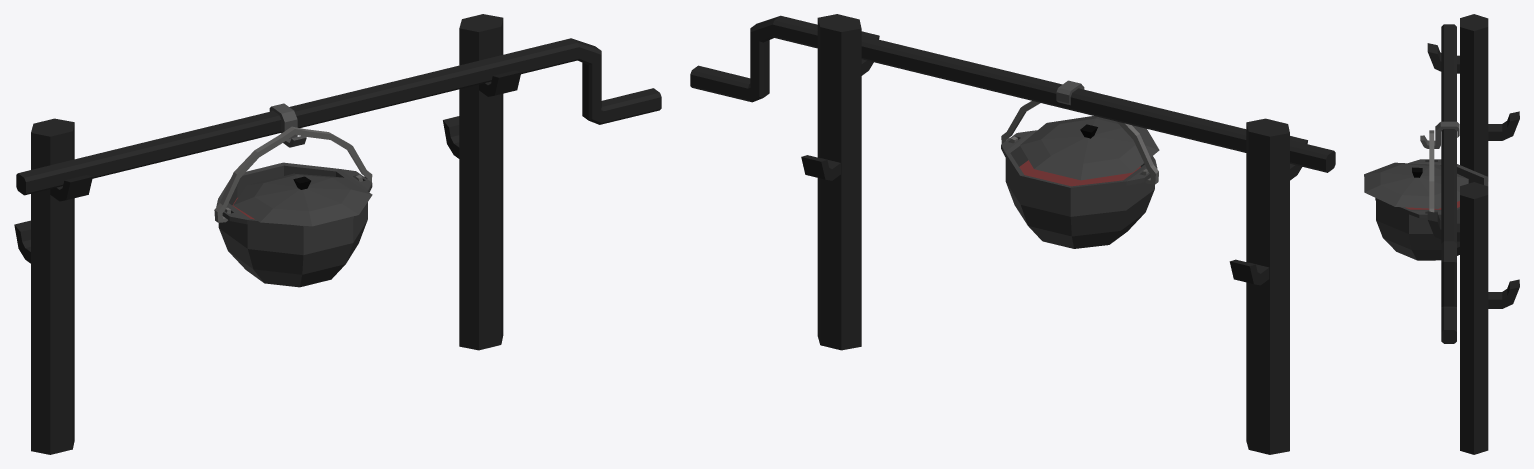
The model's file is Spit_with_cauldron.fbx.
The picture shows the model from 3 angles, left to right: view 1: azimuth 30°, elevation 25°; view 2: azimuth 150°, elevation 25°; view 3: azimuth 270°, elevation 25°; orthographic projection. The views are drawn at different scales.
Parts seen in each view (by area): view 1: racks_for_split, Spit, cauldron, cover_for_cauldron.001, Handle_for_cauldron, hook; view 2: racks_for_split, Spit, cauldron, cover_for_cauldron.001, Handle_for_cauldron; view 3: racks_for_split, Spit, cauldron, cover_for_cauldron.001, Handle_for_cauldron, hook.
Part boxes in pixels (box(x1,y1,x2,y2)): racks_for_split: box(14, 14, 521, 454); Spit: box(16, 38, 661, 195); cauldron: box(216, 162, 372, 287); cover_for_cauldron.001: box(233, 173, 372, 226); Handle_for_cauldron: box(214, 126, 372, 222); hook: box(269, 103, 306, 147); racks_for_split: box(801, 14, 1307, 454); Spit: box(690, 15, 1335, 172); cauldron: box(1001, 130, 1157, 248); cover_for_cauldron.001: box(1020, 116, 1159, 180); Handle_for_cauldron: box(1001, 101, 1158, 184); racks_for_split: box(1427, 14, 1519, 454); Spit: box(1441, 24, 1456, 343); cauldron: box(1375, 159, 1488, 260); cover_for_cauldron.001: box(1364, 162, 1468, 208); Handle_for_cauldron: box(1429, 130, 1434, 212); hook: box(1420, 121, 1459, 148).
Bounding box in the file's own units: 178 × 85.32 × 47.08.
